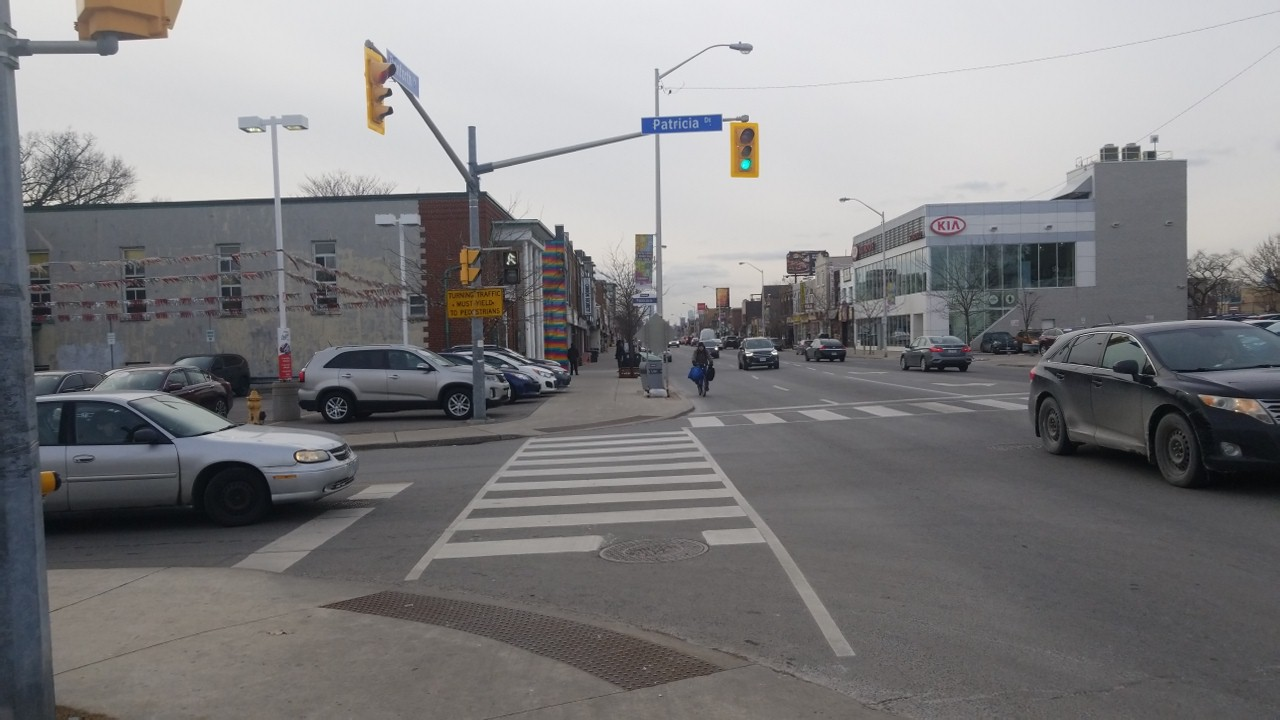light: (498, 245, 523, 291)
